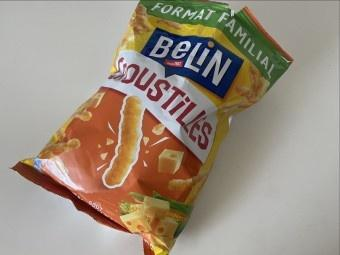snack: (8, 0, 294, 255)
